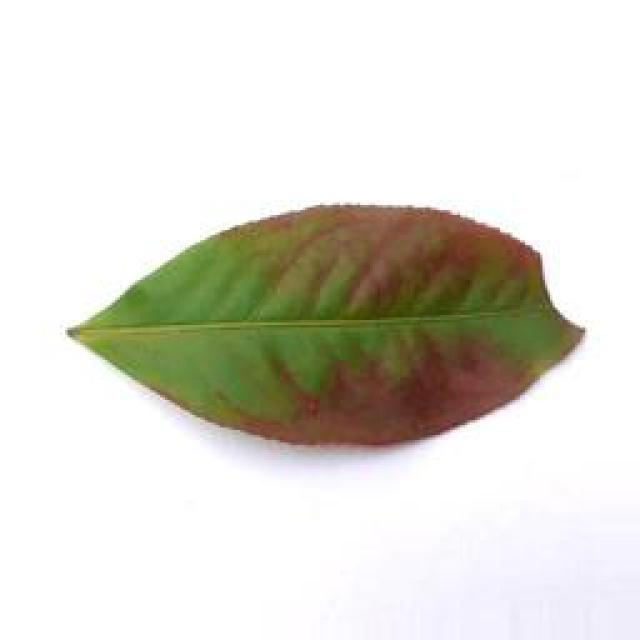Red Leaf Spot: (72, 201, 619, 461)
